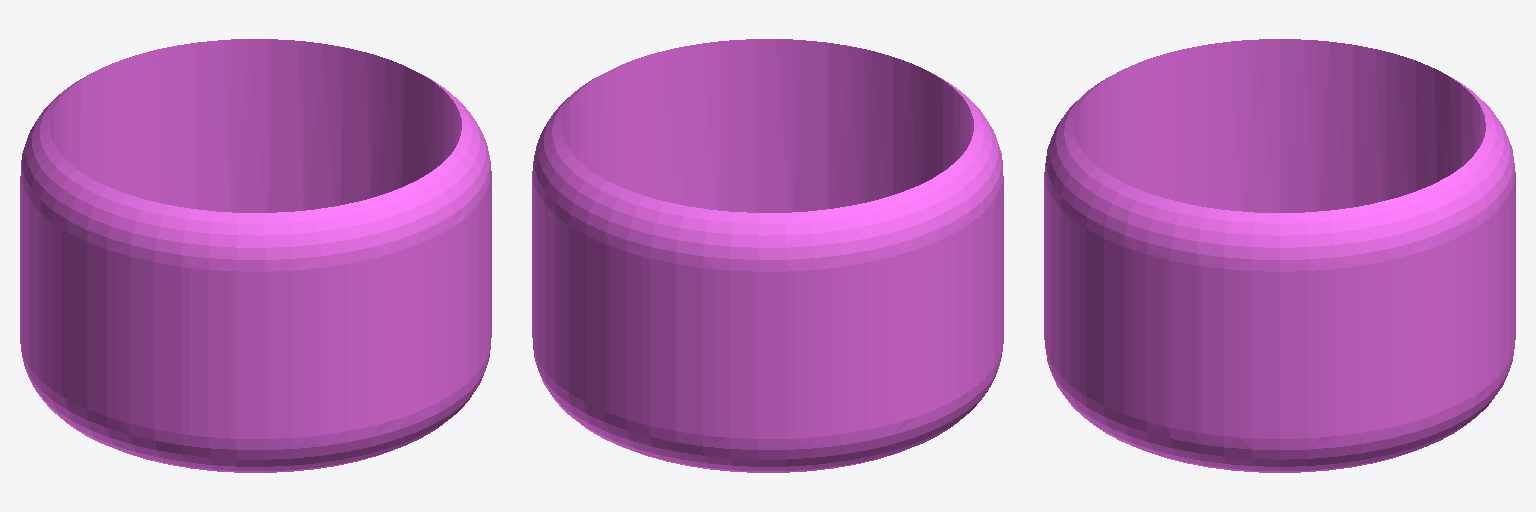
The robot description file, URDF, robot "bucket":
<?xml version="1.0" encoding="utf-8"?>
<!--木质料筒-->
<robot
  name="bucket">
  <link
    name="base_link">
    <inertial>
      <origin
        xyz="8.4484E-18 4.5027E-34 0.0068867"
        rpy="0 0 0" />
      <mass
        value="0.030343" />
      <inertia
        ixx="2.2203E-05"
        ixy="8.9098E-38"
        ixz="2.1384E-22"
        iyy="2.2203E-05"
        iyz="2.7152E-38"
        izz="3.2265E-05" />
    </inertial>
    <visual>
      <origin
        xyz="0 0 0"
        rpy="0 0 0" />
      <geometry>
        <mesh
          filename="../meshes/bucket.STL" />
      </geometry>
      <material
        name="wood">
        <color
          rgba="1 0.5 1 1" />
      </material>
    </visual>
    <collision>
      <origin
        xyz="0 0 0"
        rpy="0 0 0" />
      <geometry>
        <mesh
          filename="../meshes/bucket.STL" />
      </geometry>
    </collision>
  </link>
  
  <!--添加世界坐标系到机械臂基坐标系的空间变换-->
  <link name="world"/>
  <joint name="world_joint" type="fixed">
      <parent link="world"/>
      <child link="base_link"/>
      <origin rpy="0.0 0.0 0.0" xyz="0.0 -0.14 0.01"/>
  </joint>
</robot>

--- Facts derived from the render (not from the file) ---
The picture shows the robot from 3 angles, left to right: view 1: azimuth 30°, elevation 25°; view 2: azimuth 150°, elevation 25°; view 3: azimuth 270°, elevation 25°; orthographic projection.
Model bucket with 2 links and 1 joints (1 fixed), rooted at world, posed every joint at zero.
Links seen in each view (by area): view 1: base_link; view 2: base_link; view 3: base_link.
Boxes of the visible links, left/top/right/bottom form: base_link: left=20, top=39, right=491, bottom=472; base_link: left=532, top=39, right=1003, bottom=472; base_link: left=1044, top=39, right=1515, bottom=472.
Bounding box of the posed robot: 0.08 × 0.08 × 0.05 m (x, y, z).
Meshes: 1 distinct files referenced, 1 mesh visuals loaded (1 binary STL).
